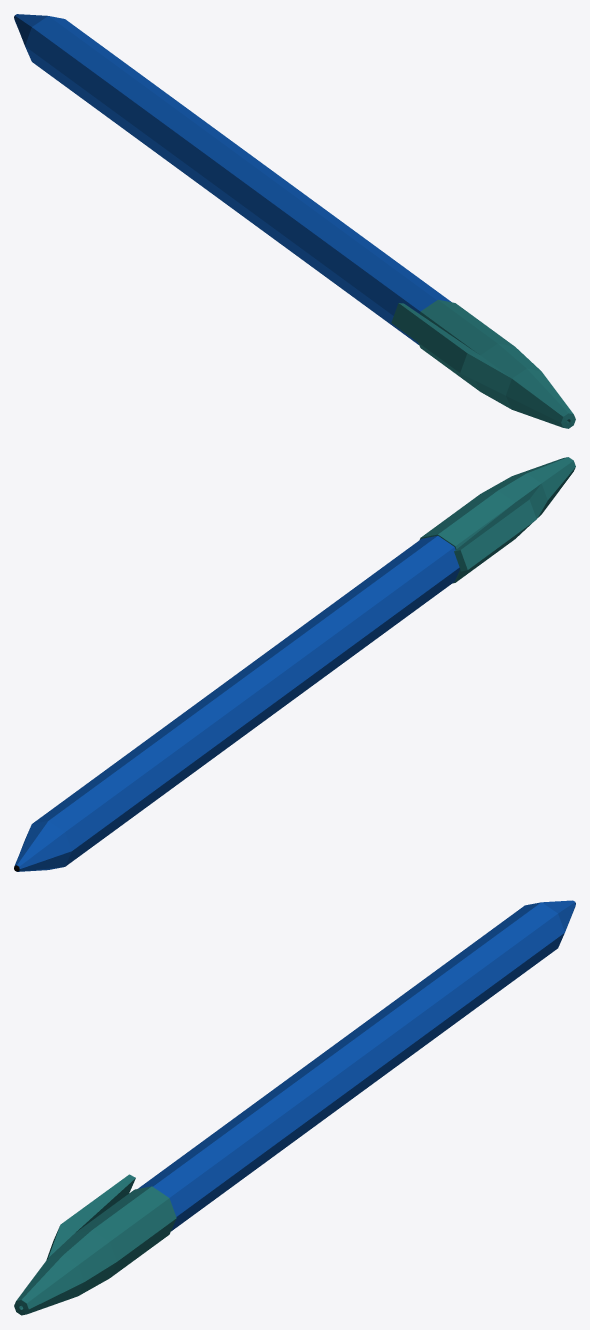
The model's file is Pen.fbx.
The picture shows the model from 3 angles, top to bottom: view 1: azimuth 30°, elevation 25°; view 2: azimuth 150°, elevation 25°; view 3: azimuth 330°, elevation 25°; orthographic projection.
Visible parts, largest first — view 1: pen, cap; view 2: pen, cap; view 3: pen, cap.
Part boxes in pixels (x1,y1,x2,y2): pen: [14, 14, 451, 344]; cap: [391, 299, 575, 428]; pen: [14, 536, 459, 871]; cap: [419, 457, 575, 583]; pen: [138, 900, 575, 1231]; cap: [14, 1174, 176, 1315].
Bounding box in the file's own units: 10.32 × 8.1 × 157.
